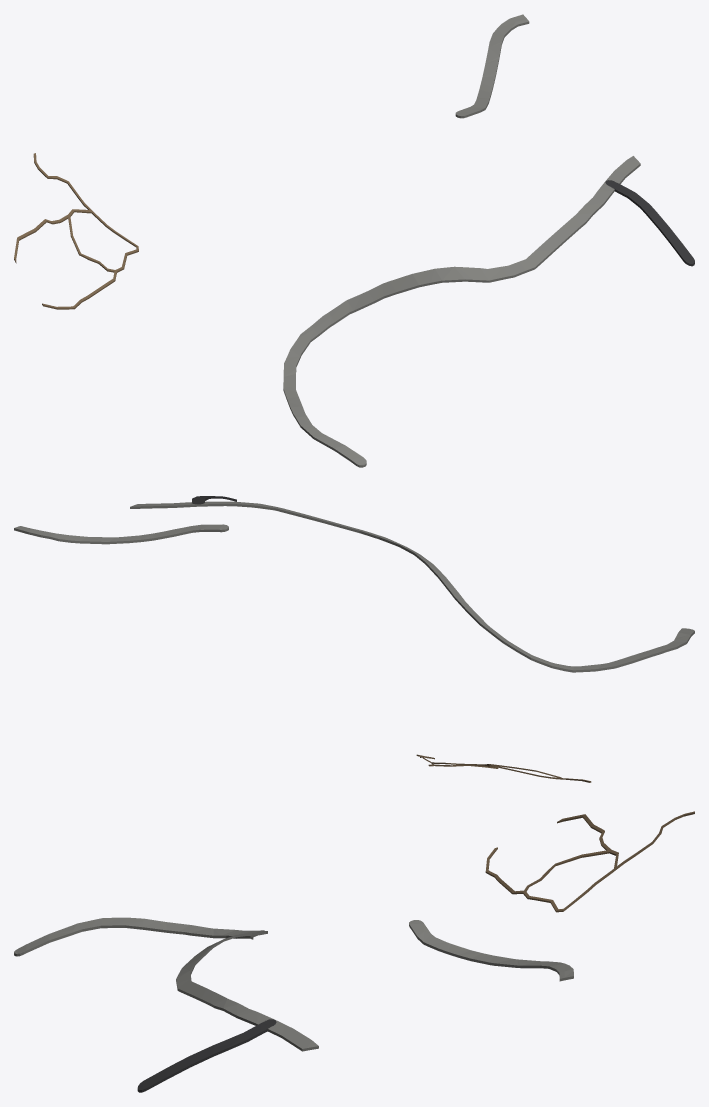
3 renders of one model, top to bottom at view 1: azimuth 30°, elevation 25°; view 2: azimuth 150°, elevation 25°; view 3: azimuth 270°, elevation 25°, orthographic. The views are drawn at different scales.
Bounding box in the file's own units: 293 × 96.86 × 291.
